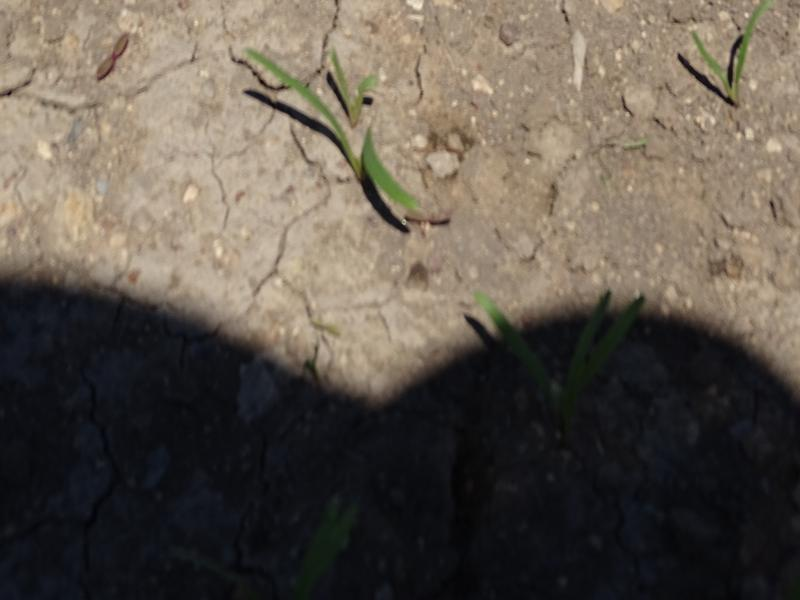Espinaca: (265, 49, 429, 220), (695, 3, 765, 100)
